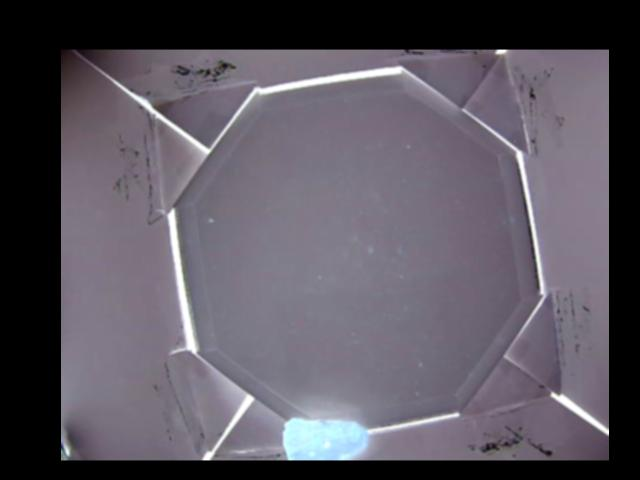Brisk: (282, 420, 369, 460)
